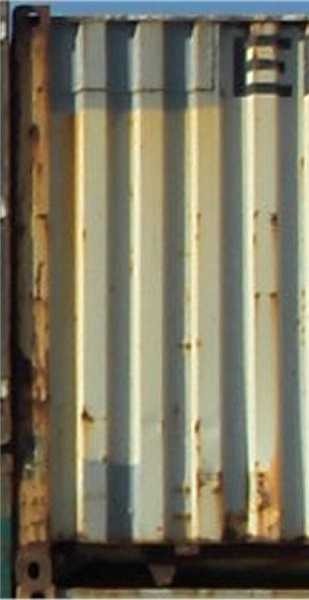container_door: (21, 10, 306, 579)
